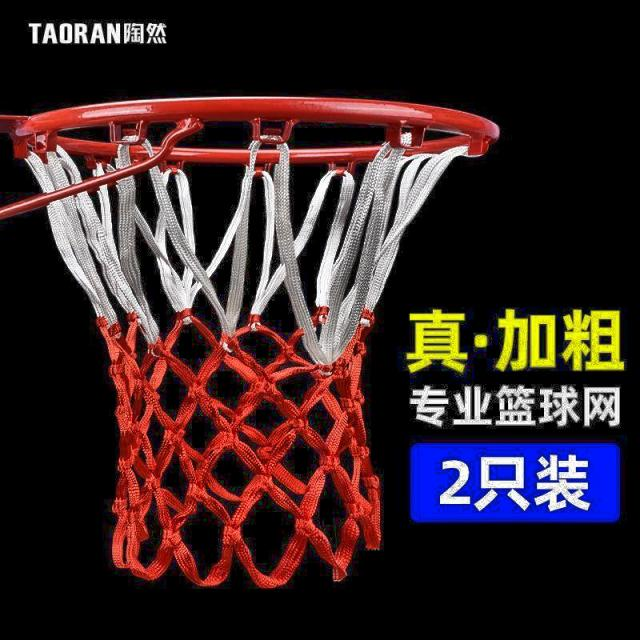rim: (18, 96, 493, 582)
